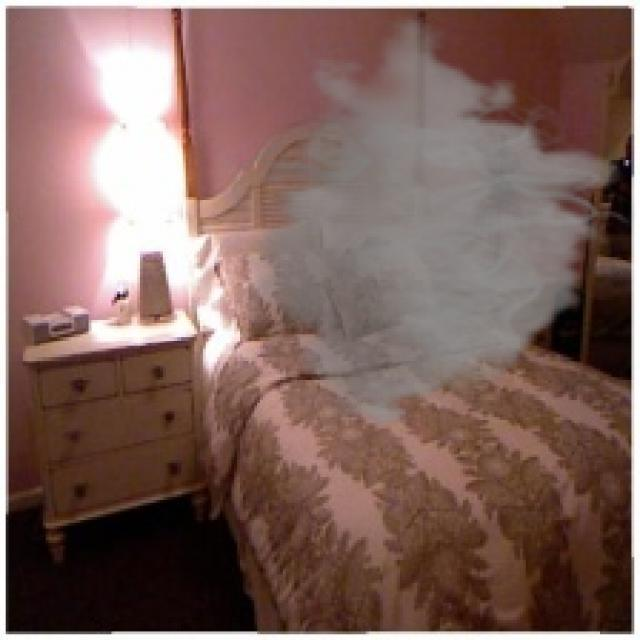Smoke: (212, 14, 637, 429)
